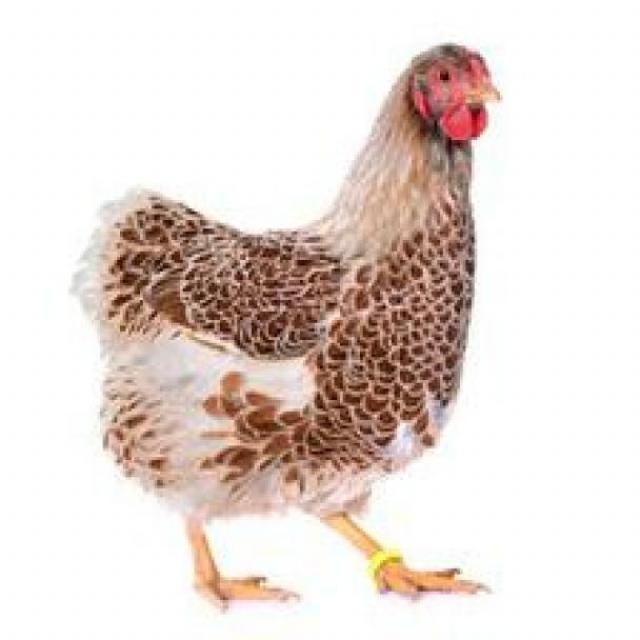Chicken: (69, 36, 497, 618)
